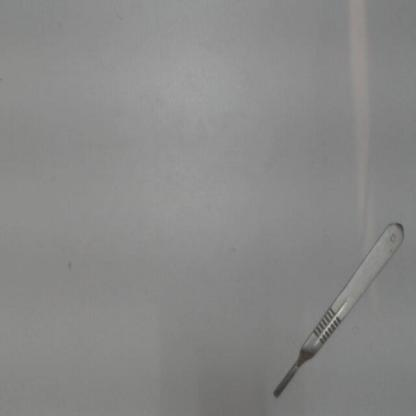No.4 BP Handle: (263, 208, 412, 410)
